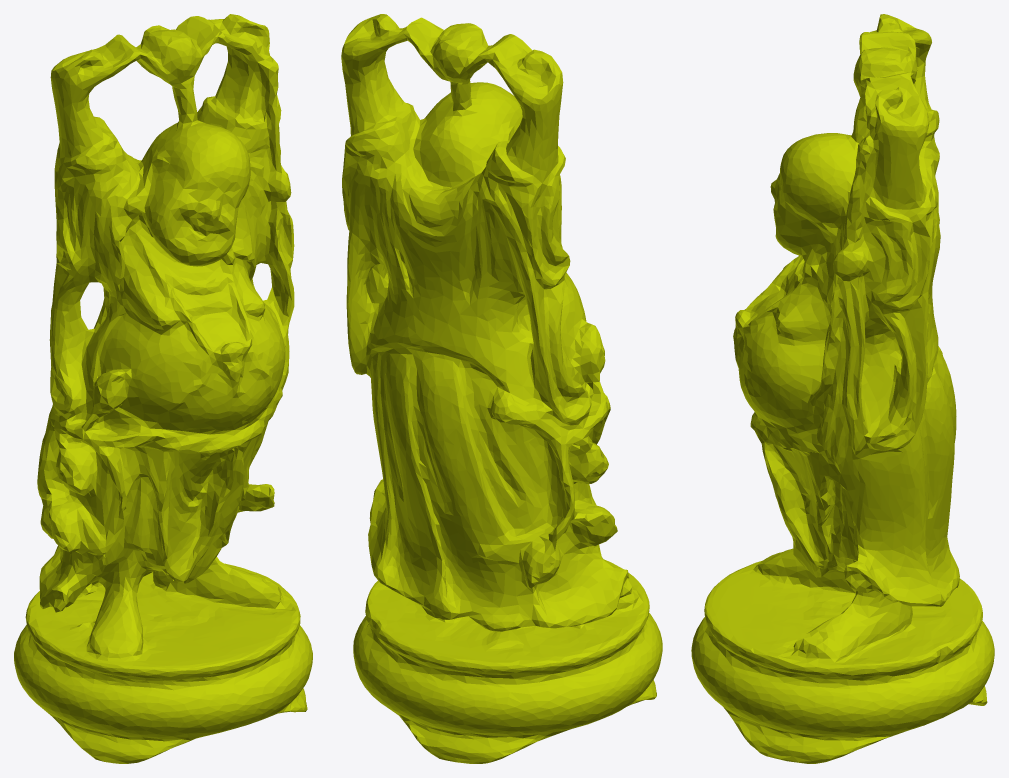
Rendered from bunnyB.obj.
3 views of the same model, side by side, from view 1: azimuth 30°, elevation 25°; view 2: azimuth 150°, elevation 25°; view 3: azimuth 270°, elevation 25° (orthographic). The views are drawn at different scales.
Parts seen in each view (by area): view 1: buddha; view 2: buddha; view 3: buddha.
Part boxes in pixels (bbox=[...]): buddha: bbox=[14, 14, 312, 763]; buddha: bbox=[341, 14, 662, 763]; buddha: bbox=[691, 14, 994, 763].
Bounding box in the file's own units: 1.61 × 3.92 × 1.61.
